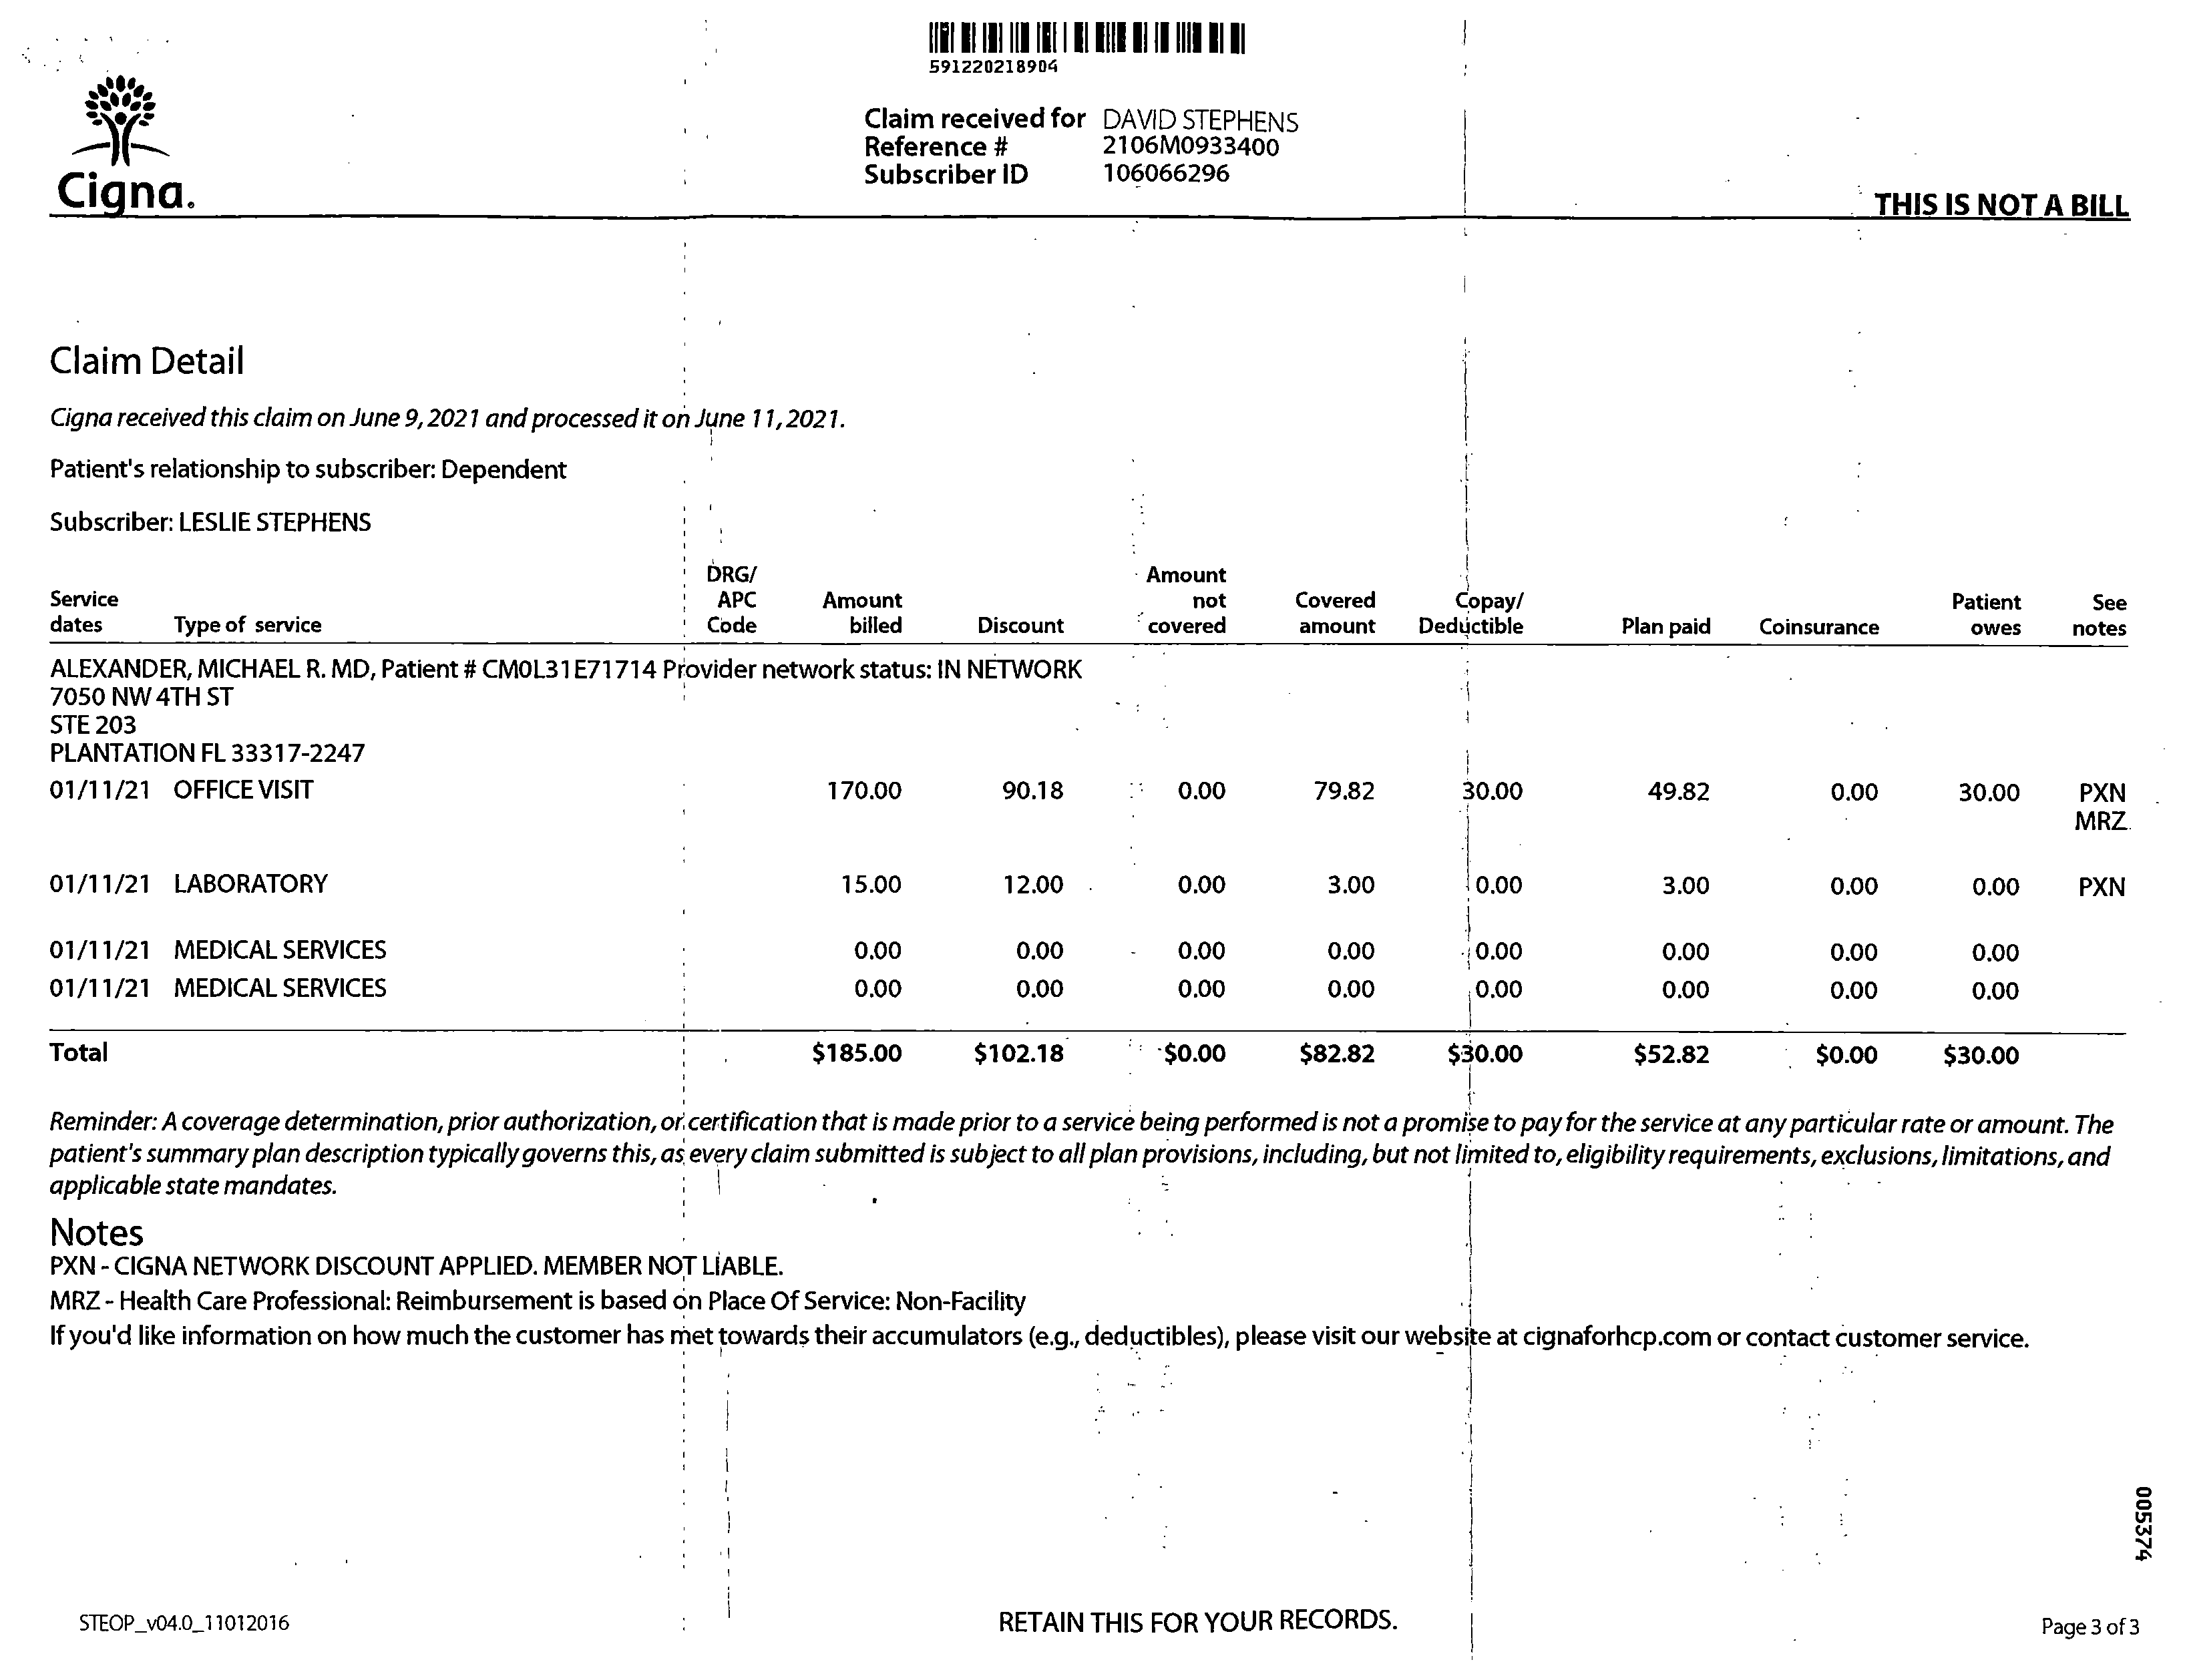table: (34, 561, 2144, 1078)
